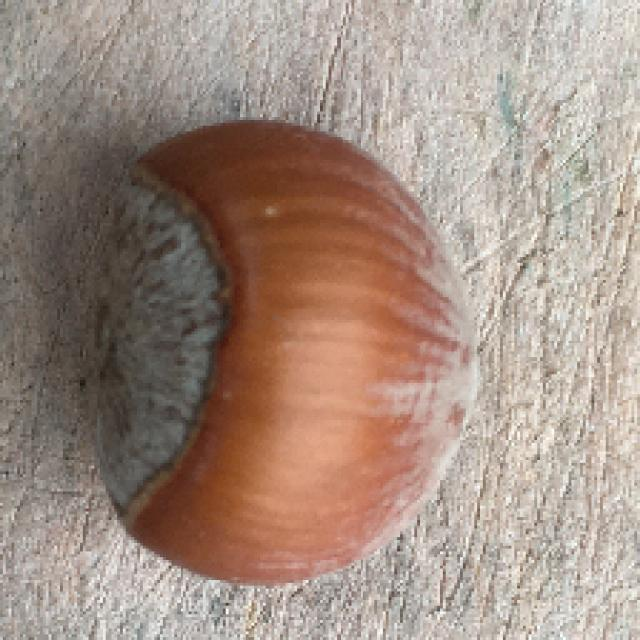QualityHazelnut: (74, 115, 486, 587)
